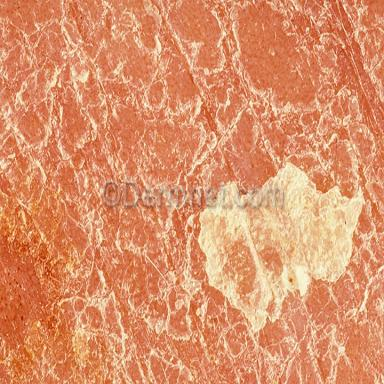Psoriasis: (0, 1, 383, 383)
